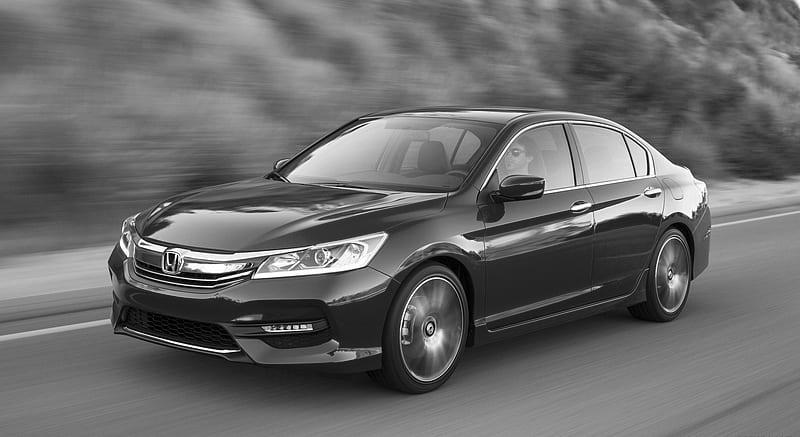Car hood: (134, 172, 449, 251)
Fender - -F-L-: (365, 179, 494, 365)
Fender - -R-L-: (639, 162, 735, 249)
Front bumper: (96, 242, 404, 379)
Headlight - -L-: (251, 227, 390, 285)
Headlight - -R-: (115, 206, 148, 261)
Passenger-s door - -F-L-: (480, 121, 593, 331)
Passenger-s door - -R-L-: (591, 118, 666, 303)
Rear bumper: (677, 205, 721, 285)
Rear light - -L-: (681, 163, 719, 215)
Side bumper - -L-: (464, 264, 652, 355)
Side mirror - -L-: (486, 162, 551, 213)
Side mirror - -R-: (264, 151, 297, 178)
